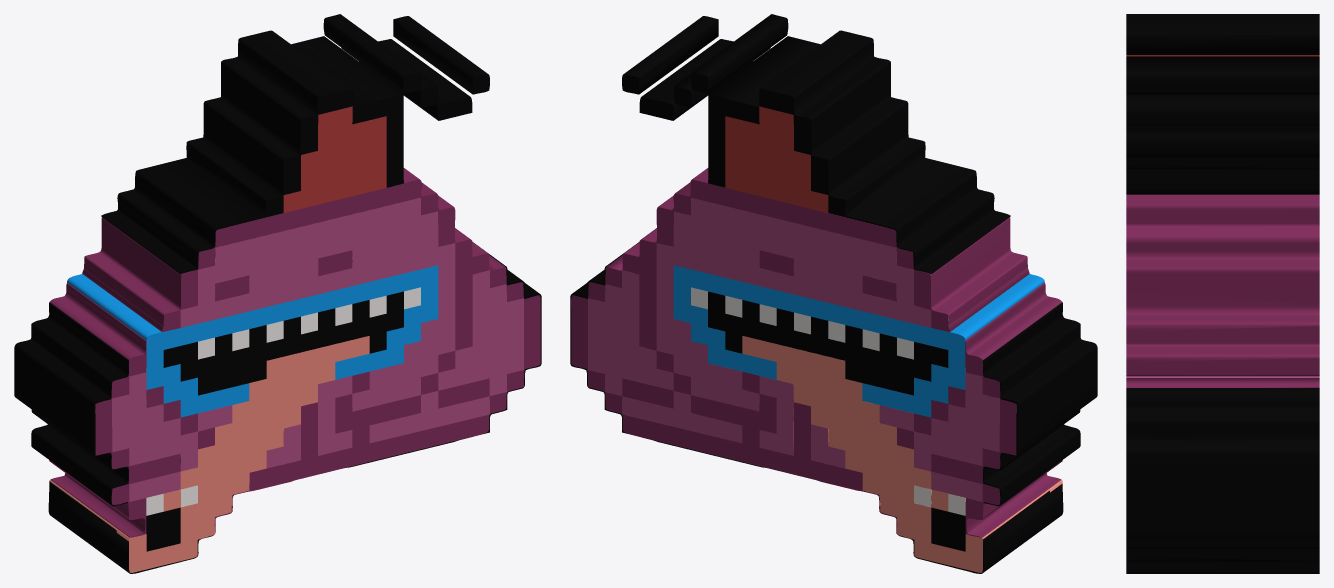
Rendered from Toadz_5346.glb.
3 views of the same model, side by side, from view 1: azimuth 30°, elevation 25°; view 2: azimuth 150°, elevation 25°; view 3: azimuth 270°, elevation 25° (orthographic). The views are drawn at different scales.
Parts seen in each view (by area): view 1: Curve; view 2: Curve; view 3: Curve.
Part boxes in pixels (x1,y1,x2,y2): Curve: (14, 14, 541, 573); Curve: (570, 14, 1097, 573); Curve: (1126, 14, 1319, 573).
Size of the model in its own units: 3.25 by 3 by 1.
